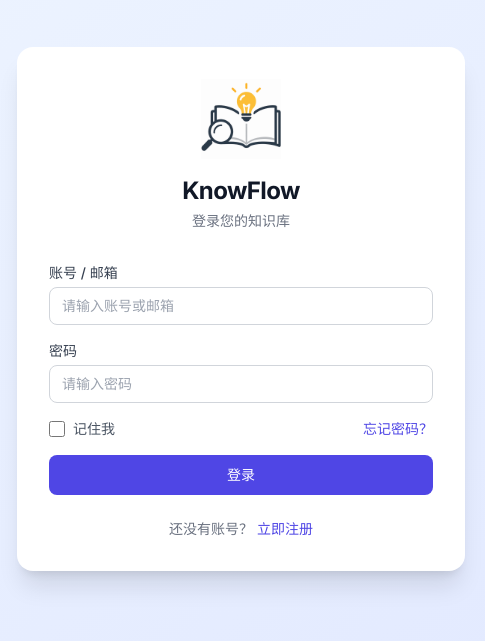
Test: LoginPage – form validation › shows an error when submitting with empty username
This screenshot has width=485, height=641.
Click the button "登录" at [241, 475], box [49,455,433,495]
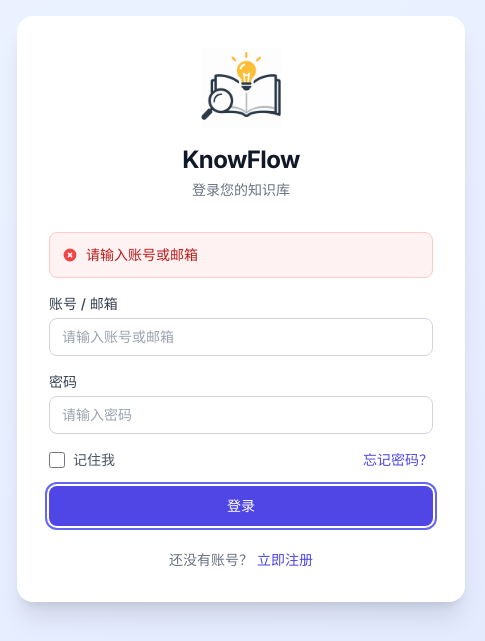
Check: the text "请输入账号或邮箱" is shown, box [86,245,198,265]
